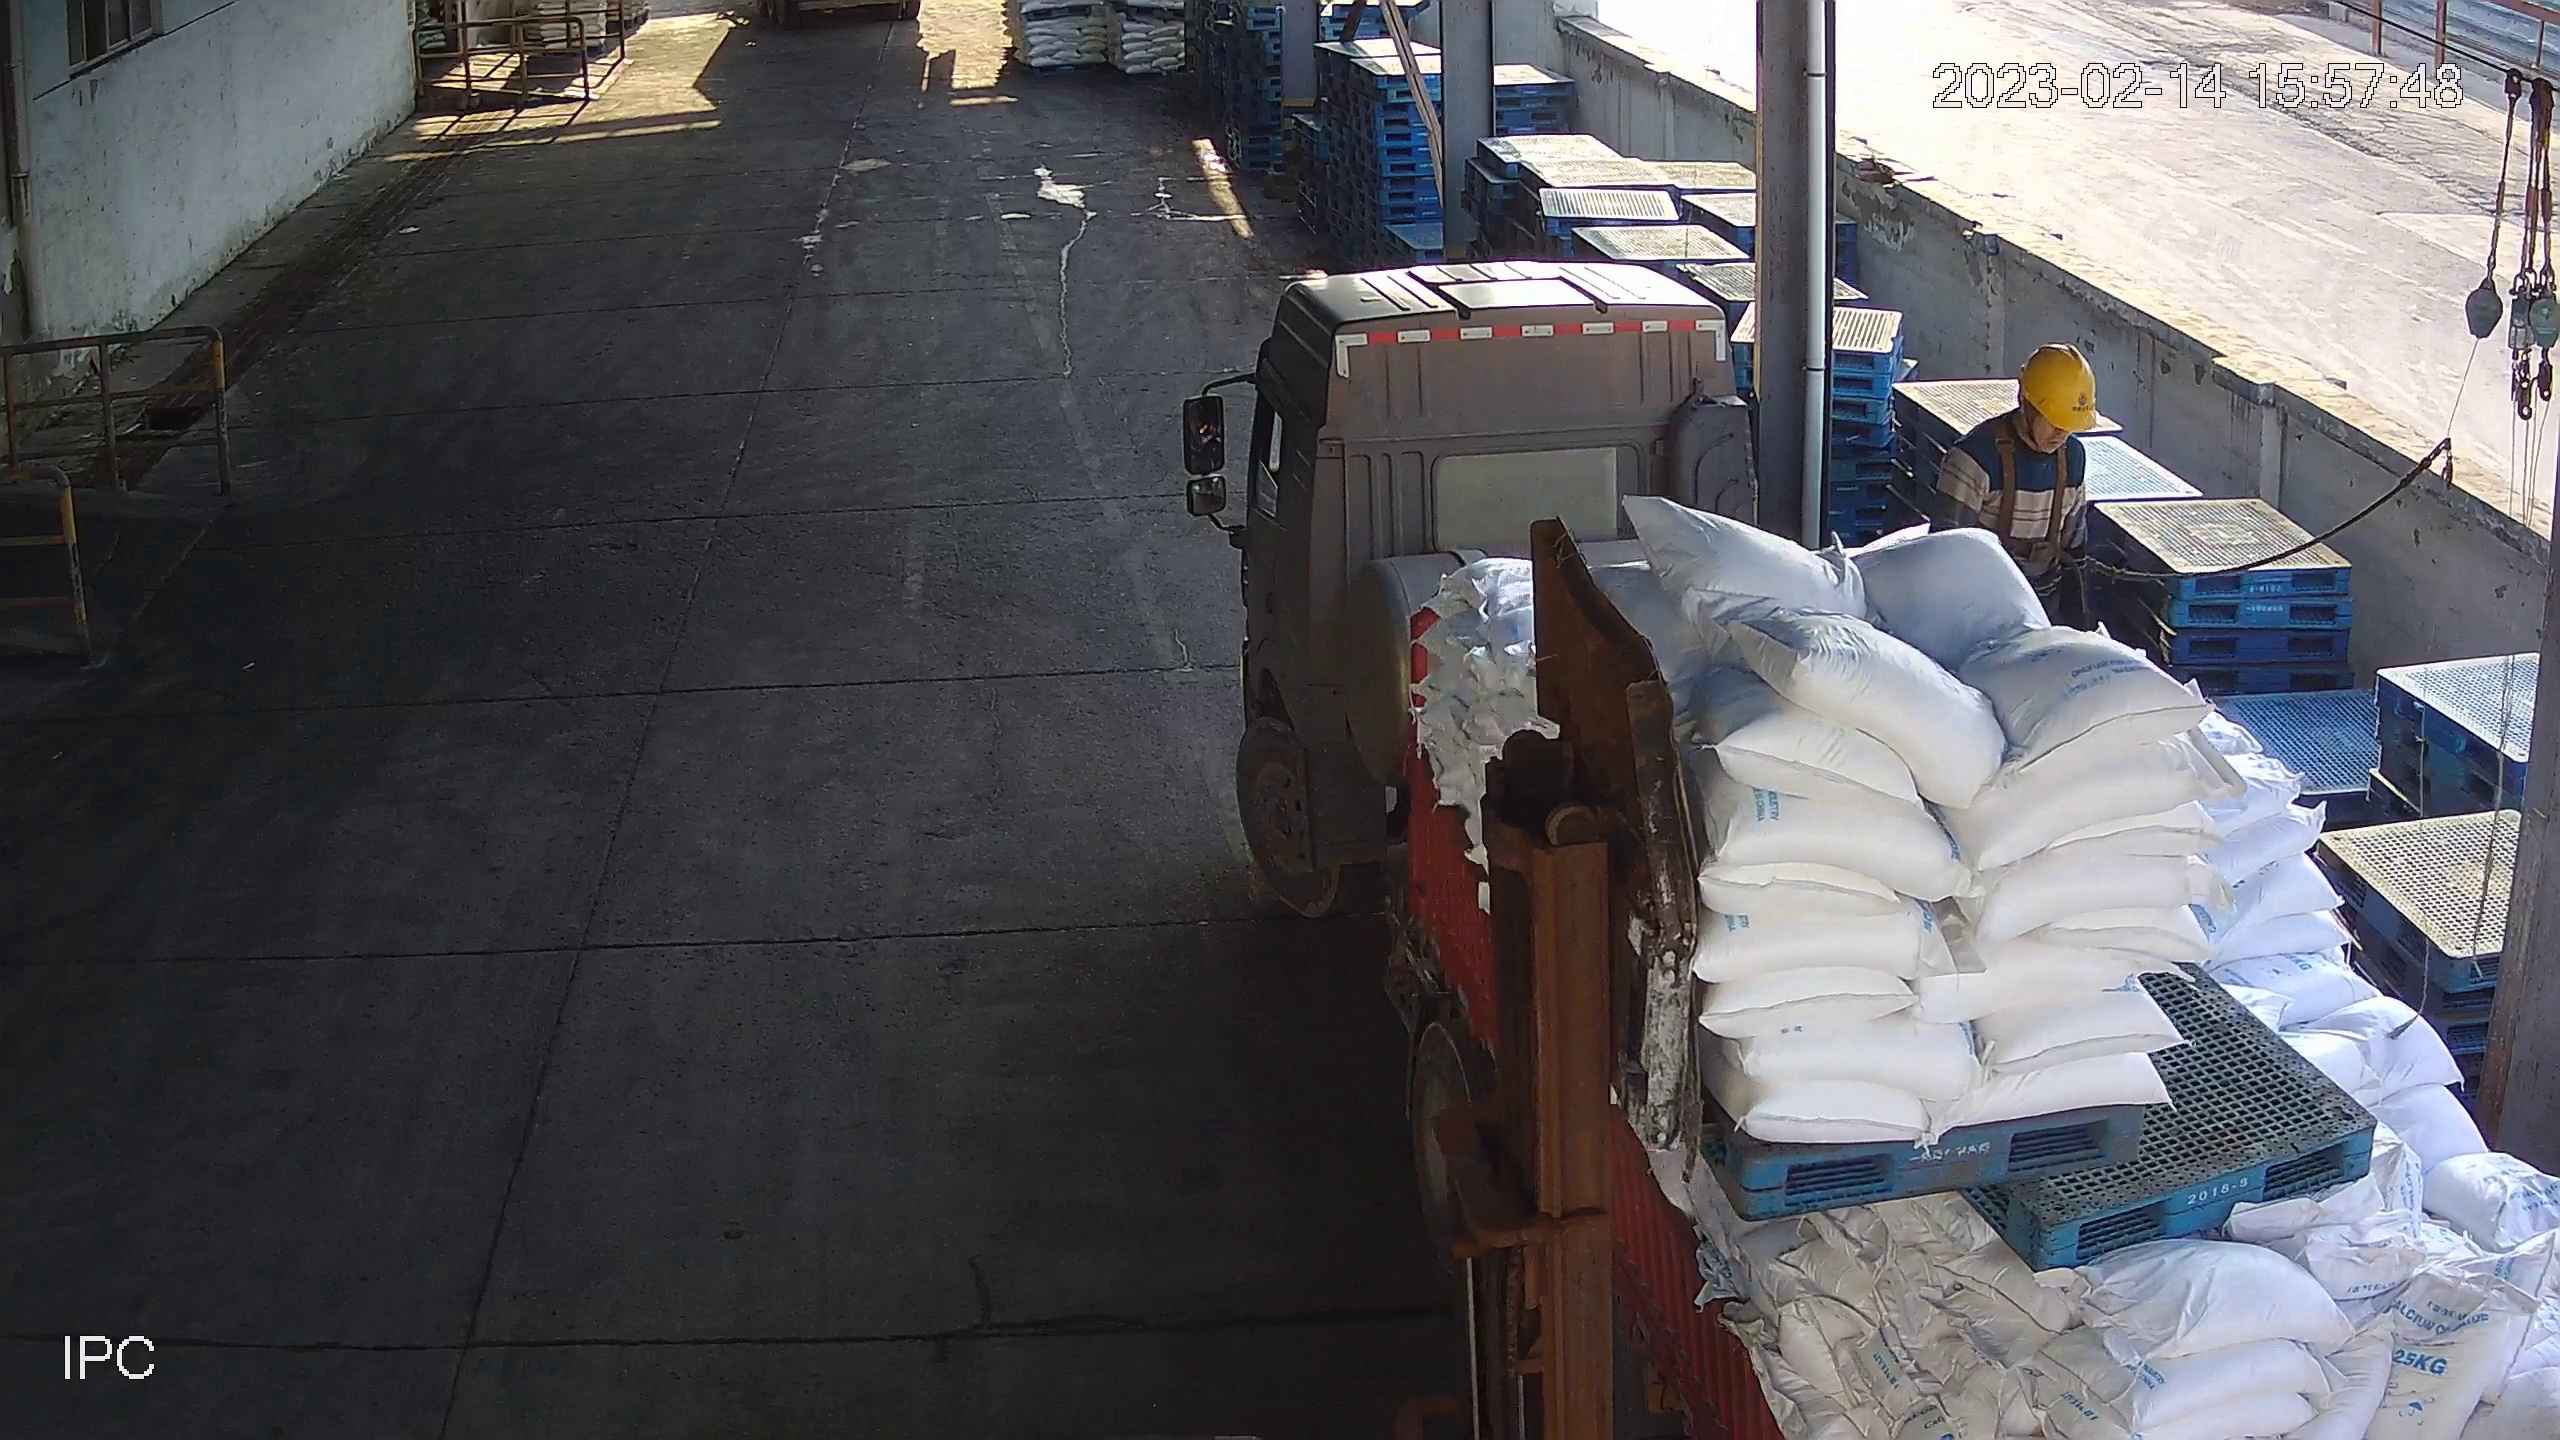belt: (1981, 411, 2098, 575)
head: (1945, 343, 2096, 476)
helmet: (2017, 342, 2102, 432)
truck: (1233, 252, 2560, 1440)
